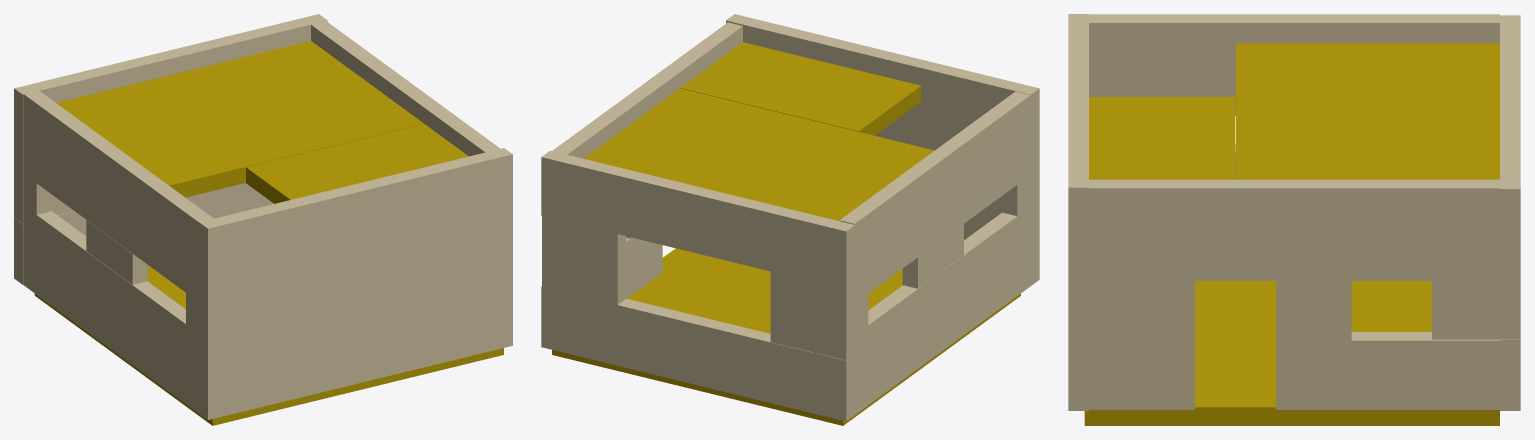
The model's file is building.glb.
3 views of the same model, side by side, from view 1: azimuth 30°, elevation 25°; view 2: azimuth 150°, elevation 25°; view 3: azimuth 270°, elevation 25° (orthographic). The views are drawn at different scales.
Visible parts, largest first — view 1: Cube, Cube__12_, Cube__2_, Cube__1_, Cube__13_, Cube__4_, Cube__8_, Cube__14_, Cube__3_, Cube__17_, Cube__5_, Cube__15_; view 2: Cube__12_, Cube__4_, Cube__3_, Cube__2_, Cube__1_, Cube, Cube__13_, Cube__14_, Cube__5_, Cube__6_, Cube__8_, Cube__17_ (+2 smaller); view 3: Cube__8_, Cube__12_, Cube__14_, Cube__2_, Cube__7_, Cube__11_, Cube__13_, Cube, Cube__4_, Cube__9_, Cube__10_, Cube__6_ (+1 smaller).
Part boxes in pixels (x1,y1,x2,y2): Cube: (199, 148, 512, 419); Cube__12_: (56, 41, 423, 197); Cube__2_: (23, 90, 213, 301); Cube__1_: (23, 206, 199, 413); Cube__13_: (246, 124, 468, 203); Cube__4_: (14, 14, 327, 152); Cube__8_: (311, 21, 500, 156); Cube__14_: (34, 265, 503, 425); Cube__3_: (14, 183, 273, 284); Cube__17_: (86, 220, 147, 284); Cube__5_: (14, 146, 74, 223); Cube__15_: (23, 174, 51, 214); Cube__12_: (584, 88, 934, 220); Cube__4_: (541, 150, 854, 289); Cube__3_: (541, 286, 854, 421); Cube__2_: (839, 91, 1030, 303); Cube__1_: (855, 207, 1030, 414); Cube: (726, 14, 1039, 285); Cube__13_: (680, 42, 921, 135); Cube__14_: (552, 248, 1020, 425); Cube__5_: (770, 271, 854, 360); Cube__6_: (542, 215, 626, 304); Cube__8_: (552, 22, 742, 158); Cube__17_: (902, 224, 963, 288); Cube__8_: (1089, 179, 1499, 280); Cube__12_: (1236, 43, 1499, 179); Cube__14_: (1084, 281, 1499, 425); Cube__2_: (1089, 14, 1499, 116); Cube__7_: (1276, 332, 1499, 409); Cube__11_: (1089, 281, 1194, 409); Cube__13_: (1089, 97, 1235, 179); Cube: (1068, 14, 1088, 410); Cube__4_: (1500, 15, 1520, 257); Cube__9_: (1276, 281, 1351, 340); Cube__10_: (1432, 280, 1499, 339); Cube__6_: (1500, 257, 1520, 339).
Bounding box in the file's own units: 10.01 × 6.43 × 11.
